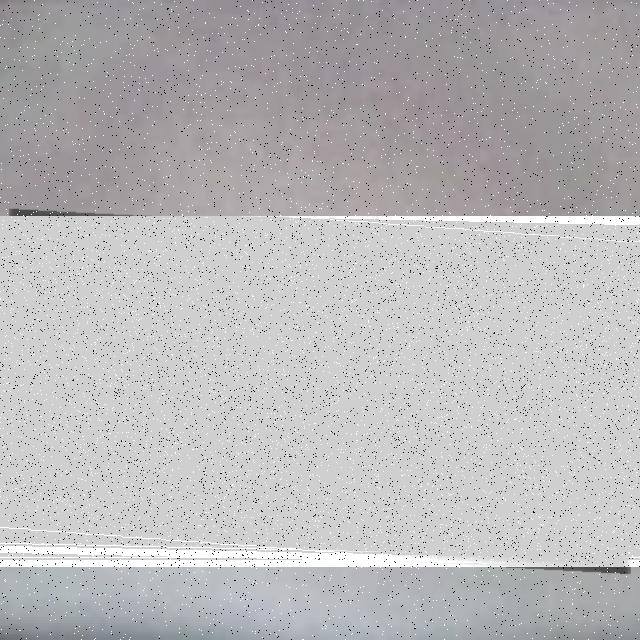dua puluh ribu rupiah: (0, 216, 640, 567)
